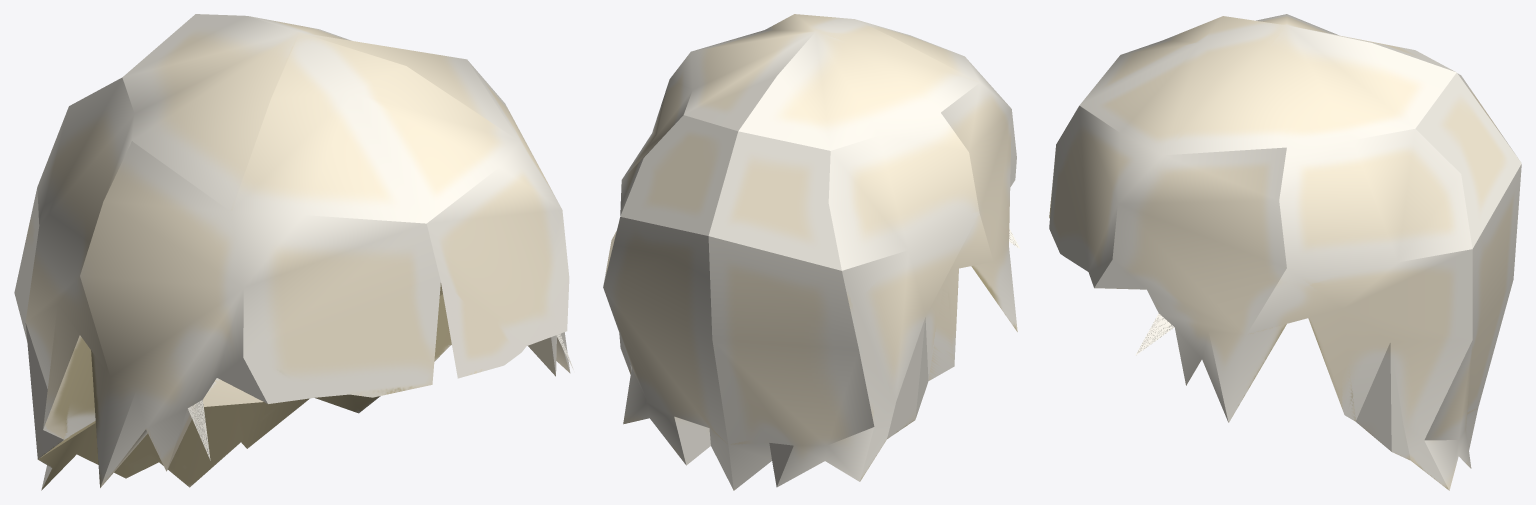
File: Hair.fbx
3 renders of one model, left to right at view 1: azimuth 30°, elevation 25°; view 2: azimuth 150°, elevation 25°; view 3: azimuth 270°, elevation 25°, orthographic. The views are drawn at different scales.
Visible parts, largest first — view 1: Hair_Baked; view 2: Hair_Baked; view 3: Hair_Baked.
Boxes of the visible parts, x1,y1,x2,y2 form: Hair_Baked: (14, 14, 573, 490); Hair_Baked: (603, 14, 1020, 490); Hair_Baked: (1049, 14, 1521, 490).
Bounding box in the file's own units: 131 × 143 × 140.
Materials: 1 (1 with a texture image).
